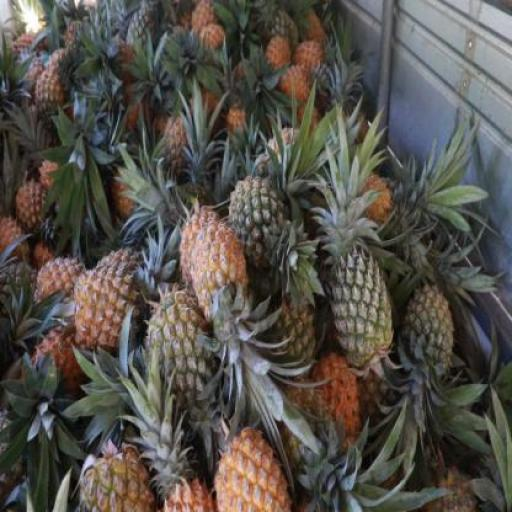------------------------------: (143, 289, 215, 399), (227, 177, 291, 275), (79, 443, 150, 512), (35, 64, 67, 122)
Pineapple - v8 v1: (72, 256, 141, 357), (213, 427, 290, 510), (191, 218, 250, 320), (178, 208, 226, 297), (35, 257, 82, 319), (18, 173, 56, 227)
